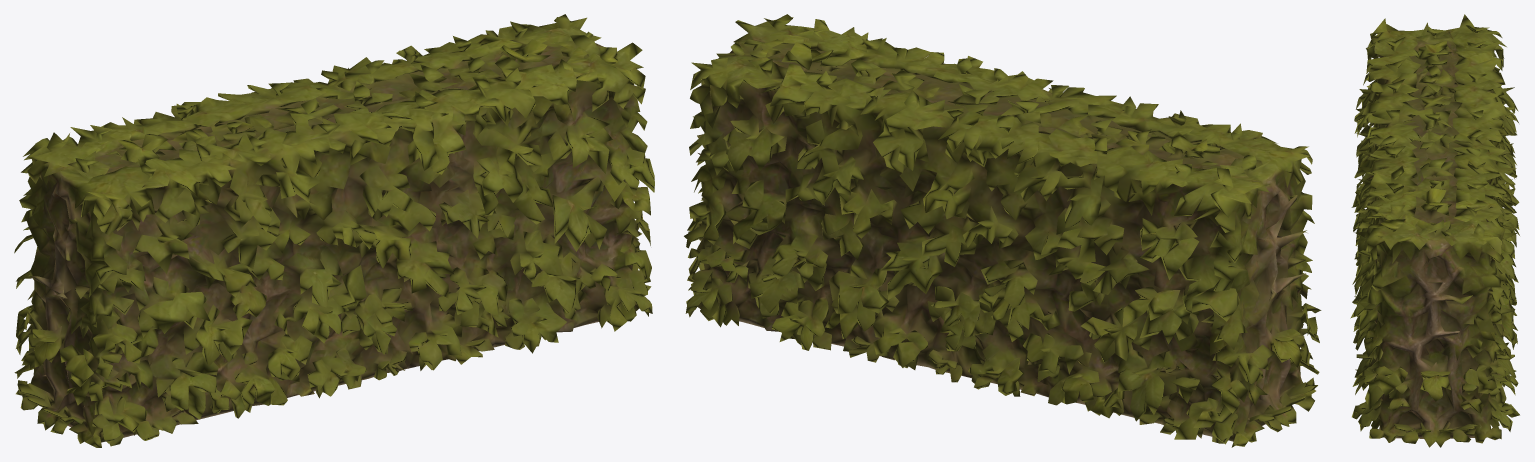
File: hedge_block_tripo.glb
3 views of the same model, side by side, from view 1: azimuth 30°, elevation 25°; view 2: azimuth 150°, elevation 25°; view 3: azimuth 270°, elevation 25° (orthographic). The views are drawn at different scales.
Parts seen in each view (by area): view 1: tripo_node_ce0bdcee-f47b-4f70-84b0-7592225d4e4a; view 2: tripo_node_ce0bdcee-f47b-4f70-84b0-7592225d4e4a; view 3: tripo_node_ce0bdcee-f47b-4f70-84b0-7592225d4e4a.
Part boxes in pixels (box(x1,y1,x2,y2)): tripo_node_ce0bdcee-f47b-4f70-84b0-7592225d4e4a: box(14, 14, 654, 447); tripo_node_ce0bdcee-f47b-4f70-84b0-7592225d4e4a: box(684, 14, 1321, 447); tripo_node_ce0bdcee-f47b-4f70-84b0-7592225d4e4a: box(1350, 14, 1519, 447).
Bounding box in the file's own units: 1 × 0.4242 × 0.3062.
Materials: 1 (1 with a texture image).
